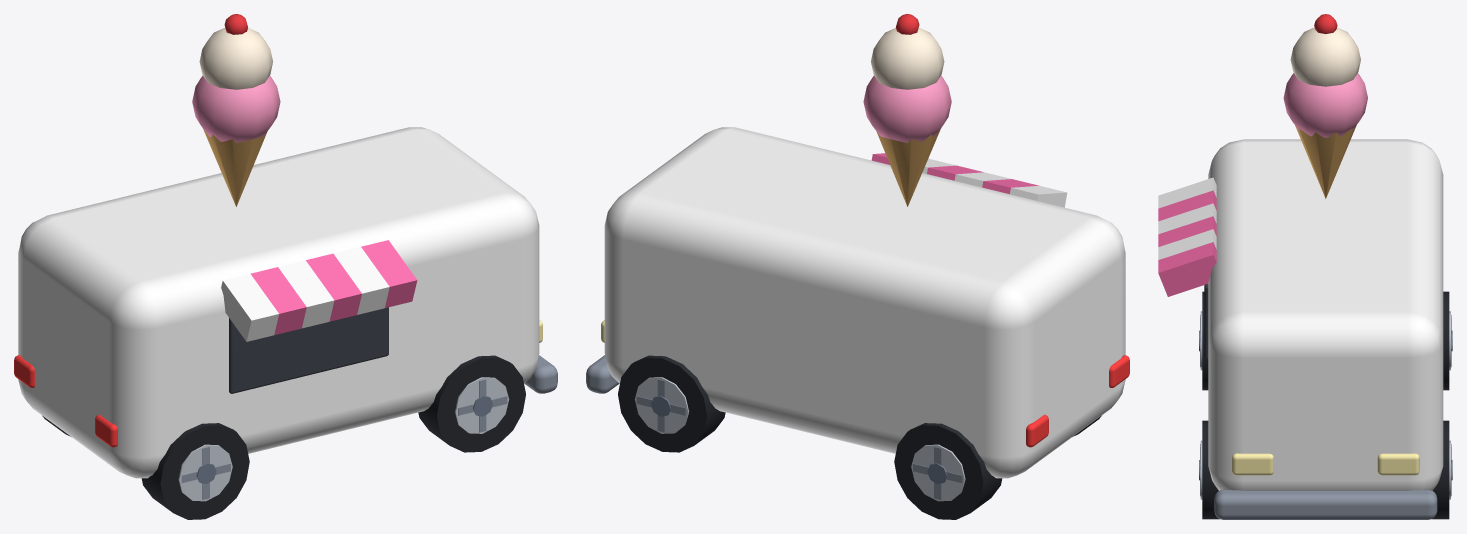
File: car_icecream.glb
3 renders of one model, left to right at view 1: azimuth 30°, elevation 25°; view 2: azimuth 150°, elevation 25°; view 3: azimuth 270°, elevation 25°, orthographic. The views are drawn at different scales.
Visible parts, largest first — view 1: Paint, Trim, Wheel1, Wheel0; view 2: Paint, Trim, Wheel3, Wheel2; view 3: Paint, Trim, Wheel2, Wheel0, Wheel3, Wheel1.
Boxes of the visible parts, <box> form: Paint: <box>18,127,539,478</box>; Trim: <box>14,14,557,447</box>; Wheel1: <box>141,423,249,519</box>; Wheel0: <box>418,355,525,452</box>; Paint: <box>604,127,1125,478</box>; Trim: <box>586,14,1129,447</box>; Wheel3: <box>894,423,1002,519</box>; Wheel2: <box>618,355,725,452</box>; Paint: <box>1208,139,1443,490</box>; Trim: <box>1158,14,1437,519</box>; Wheel2: <box>1432,420,1452,519</box>; Wheel0: <box>1199,420,1219,519</box>; Wheel3: <box>1443,291,1452,390</box>; Wheel1: <box>1199,291,1208,390</box>.
Bounding box in the file's own units: 4.15 × 3.9 × 2.51.
